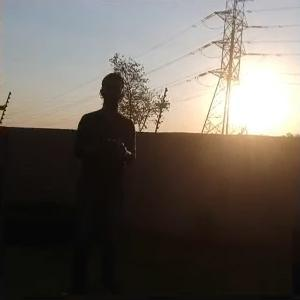follow: (57, 65, 139, 298)
